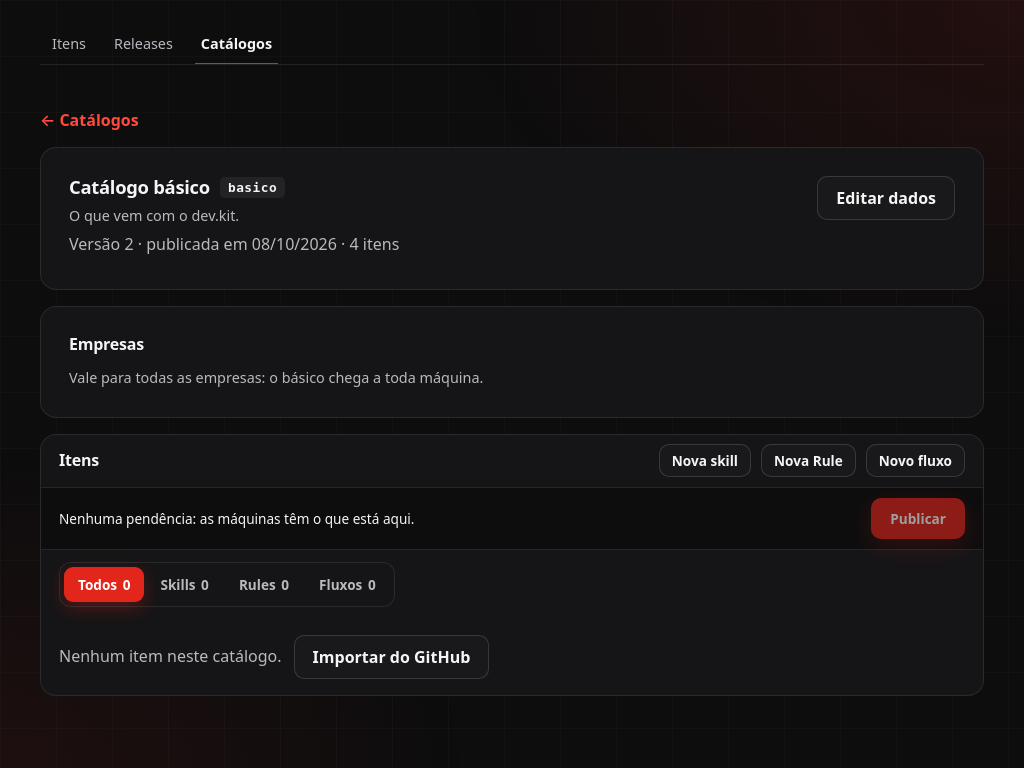
Test case: Aba Catálogos do admin (US #461) › o detalhe do básico vale para todas as empresas e, vazio, oferece a importação do GitHub
(page scrolled)
expect the text "Vale para todas as empresas: o básico chega a toda máquina." is shown: met, box [69, 368, 483, 387]
Click the button "Importar do GitHub": (392, 656) [294, 634, 489, 678]
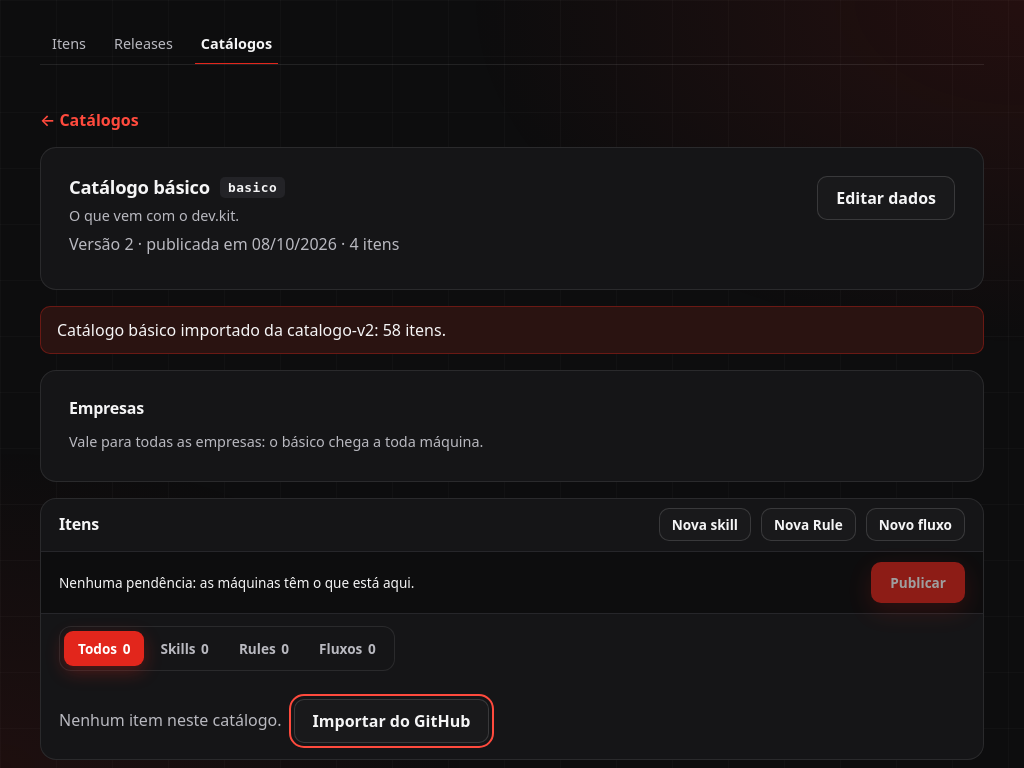
expect the text "Catálogo básico importado da catalogo-v2: 58 itens." is shown: met, box [40, 306, 984, 354]
